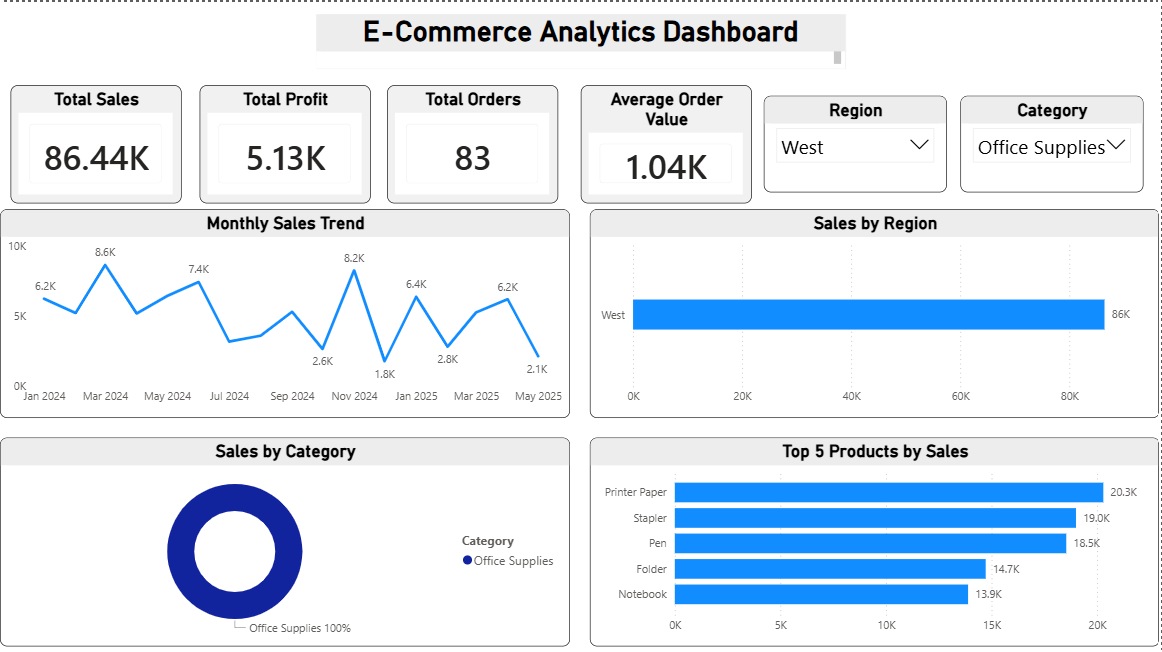

This screenshot's page, from the dashboard's own definition file:
{"tool":"powerbi","page":{"name":"Executive Overview","canvas":[1280,720],"ordinal":0},"visuals":[{"type":"cardVisual","title":"Total Sales","fields":{"Data":["Ecommerce_Data.Total Sales"]},"box":[11.7,91.7,188.3,130],"z":0},{"type":"cardVisual","title":"Average Order Value","fields":{"Data":["Ecommerce_Data.Average Order Value"]},"box":[640,91.7,188.3,130],"z":1000},{"type":"cardVisual","title":"Total Orders","fields":{"Data":["Ecommerce_Data.Total Orders"]},"box":[426.7,91.7,188.3,130],"z":2000},{"type":"cardVisual","title":"Total Profit","fields":{"Data":["Ecommerce_Data.Total Profit"]},"box":[220,91.7,188.3,130],"z":3000},{"type":"lineChart","title":"Monthly Sales Trend","fields":{"Y":["Ecommerce_Data.Total Sales"],"Category":["Ecommerce_Data.Order Date.Variation.Date Hierarchy.Year","Ecommerce_Data.Order Date.Variation.Date Hierarchy.Month"]},"box":[0,228.3,628.3,230],"z":4000},{"type":"clusteredBarChart","title":"Sales by Region","fields":{"Category":["Ecommerce_Data.Region"],"Y":["Ecommerce_Data.Total Sales"]},"box":[650,228.3,628.3,230],"z":5000},{"type":"donutChart","title":"Sales by Category","fields":{"Category":["Ecommerce_Data.Category"],"Y":["Ecommerce_Data.Total Sales"]},"box":[0,480,628.3,230],"z":6000},{"type":"slicer","title":"Region","fields":{"Values":["Ecommerce_Data.Region"]},"box":[841.7,103.3,201.7,106.7],"z":7000},{"type":"slicer","title":"Category","fields":{"Values":["Ecommerce_Data.Category"]},"box":[1058.3,103.3,201.7,106.7],"z":8000},{"type":"clusteredBarChart","title":"Top 5 Products by Sales","fields":{"Category":["Ecommerce_Data.Product Name"],"Y":["Ecommerce_Data.Total Sales"]},"box":[650,480,628.3,230],"z":9000},{"type":"textbox","title":"E-Commerce Analytics Dashboard","box":[348.3,13.3,583.3,60],"z":10000}]}

Visuals, with their boxes in screenshot pixels (x1, y1, x2, y2), scaled from the page's 1280x720 canvas onto the 1162x652 screenshot:
"Total Sales" cardVisual: <bbox>11, 83, 182, 201</bbox>
"Average Order Value" cardVisual: <bbox>581, 83, 752, 201</bbox>
"Total Orders" cardVisual: <bbox>387, 83, 558, 201</bbox>
"Total Profit" cardVisual: <bbox>200, 83, 371, 201</bbox>
"Monthly Sales Trend" lineChart: <bbox>0, 207, 570, 415</bbox>
"Sales by Region" clusteredBarChart: <bbox>590, 207, 1160, 415</bbox>
"Sales by Category" donutChart: <bbox>0, 435, 570, 643</bbox>
"Region" slicer: <bbox>764, 94, 947, 190</bbox>
"Category" slicer: <bbox>961, 94, 1144, 190</bbox>
"Top 5 Products by Sales" clusteredBarChart: <bbox>590, 435, 1160, 643</bbox>
"E-Commerce Analytics Dashboard" textbox: <bbox>316, 12, 846, 66</bbox>
